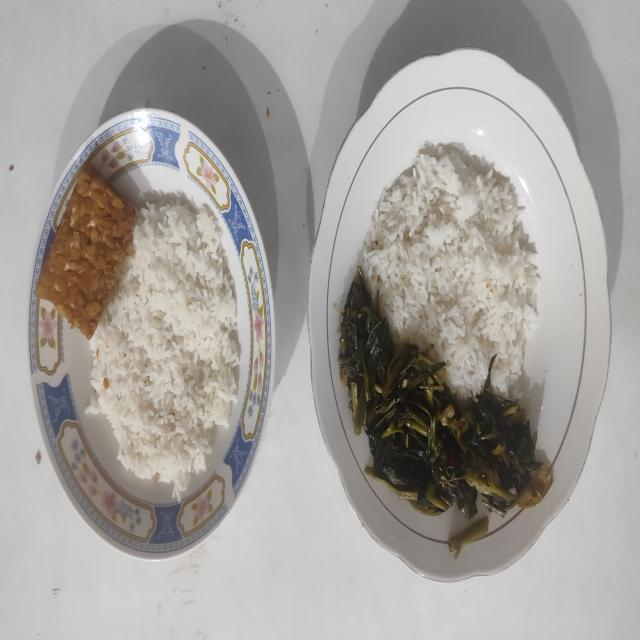nasi_putih: (360, 141, 540, 401), (87, 194, 240, 498)
tempe_goreng: (36, 164, 136, 339)
tumis_kangkung: (338, 268, 552, 518)
